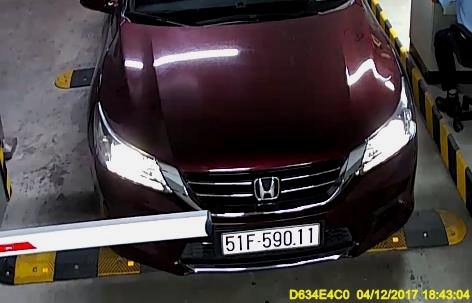plate: (223, 225, 319, 253)
